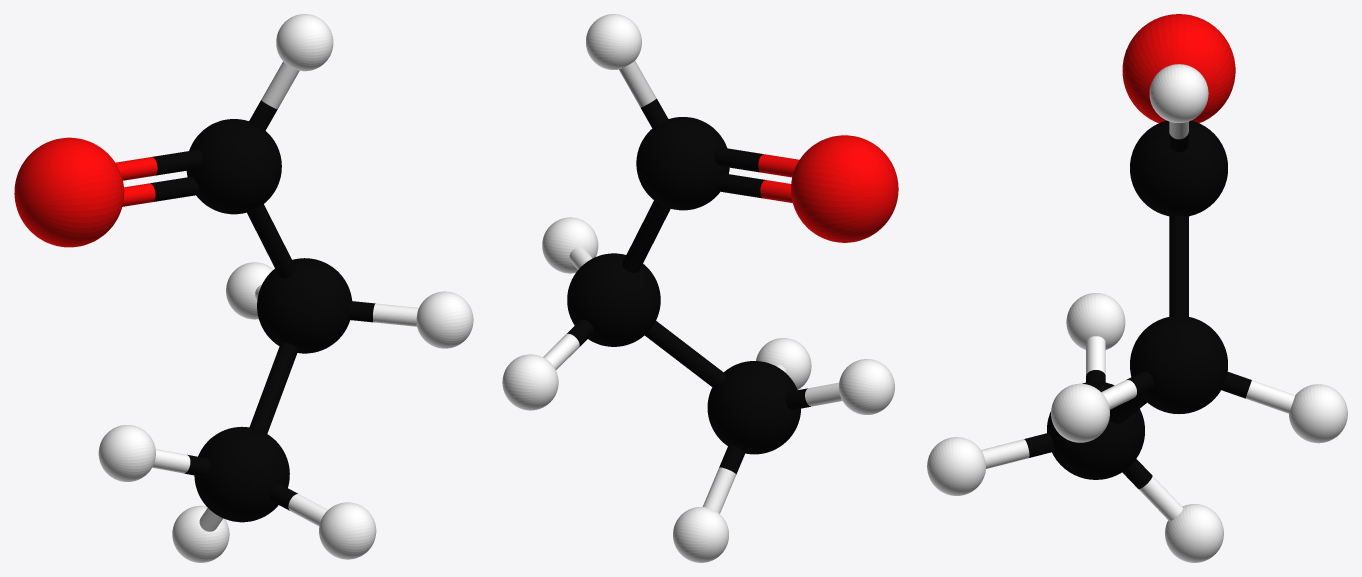
File: Propanal.glb
The picture shows the model from 3 angles, left to right: view 1: azimuth 30°, elevation 25°; view 2: azimuth 150°, elevation 25°; view 3: azimuth 270°, elevation 25°; orthographic projection. The views are drawn at different scales.
Parts seen in each view (by area): view 1: Esfera_UV.004, Esfera_UV.010, Esfera_UV.001, Esfera_UV.011, Esfera_UV.007, Esfera_UV.006, Esfera_UV.000_Esfera_UV.012, Esfera_UV.002_Esfera_UV.013, Esfera_UV.005_Esfera_UV.014, Cilindro.001_Cilindro.003, Esfera_UV.003, Cilindro.000 (+6 smaller); view 2: Esfera_UV.004, Esfera_UV.011, Esfera_UV.001, Esfera_UV.010, Esfera_UV.003, Esfera_UV.002_Esfera_UV.013, Esfera_UV.005_Esfera_UV.014, Esfera_UV.000_Esfera_UV.012, Esfera_UV.006, Cilindro.001_Cilindro.003, Esfera_UV.007, Cilindro.000 (+6 smaller); view 3: Esfera_UV.004, Esfera_UV.010, Esfera_UV.001, Esfera_UV.011, Esfera_UV.000_Esfera_UV.012, Esfera_UV.006, Esfera_UV.007, Esfera_UV.003, Esfera_UV.005_Esfera_UV.014, Esfera_UV.002_Esfera_UV.013, Cilindro.001, Cilindro.005 (+6 smaller).
Boxes of the visible parts, x1=… form: Esfera_UV.004: x1=14, y1=137, x2=124, y2=247; Esfera_UV.010: x1=257, y1=258, x2=352, y2=353; Esfera_UV.001: x1=186, y1=119, x2=281, y2=214; Esfera_UV.011: x1=194, y1=426, x2=289, y2=522; Esfera_UV.007: x1=319, y1=502, x2=376, y2=559; Esfera_UV.006: x1=416, y1=291, x2=473, y2=348; Esfera_UV.000_Esfera_UV.012: x1=276, y1=14, x2=333, y2=71; Esfera_UV.002_Esfera_UV.013: x1=98, y1=425, x2=155, y2=481; Esfera_UV.005_Esfera_UV.014: x1=172, y1=505, x2=229, y2=562; Cilindro.001_Cilindro.003: x1=249, y1=342, x2=298, y2=433; Esfera_UV.003: x1=226, y1=262, x2=273, y2=319; Cilindro.000: x1=115, y1=149, x2=202, y2=180; Esfera_UV.004: x1=791, y1=135, x2=898, y2=242; Esfera_UV.011: x1=707, y1=361, x2=800, y2=454; Esfera_UV.001: x1=636, y1=117, x2=729, y2=210; Esfera_UV.010: x1=567, y1=253, x2=660, y2=346; Esfera_UV.003: x1=502, y1=354, x2=558, y2=410; Esfera_UV.002_Esfera_UV.013: x1=839, y1=359, x2=894, y2=414; Esfera_UV.005_Esfera_UV.014: x1=673, y1=507, x2=728, y2=562; Esfera_UV.000_Esfera_UV.012: x1=586, y1=14, x2=641, y2=69; Esfera_UV.006: x1=542, y1=217, x2=598, y2=273; Cilindro.001_Cilindro.003: x1=645, y1=321, x2=726, y2=388; Esfera_UV.007: x1=756, y1=338, x2=811, y2=389; Cilindro.000: x1=714, y1=147, x2=799, y2=177; Esfera_UV.004: x1=1122, y1=14, x2=1235, y2=123; Esfera_UV.010: x1=1130, y1=316, x2=1227, y2=413; Esfera_UV.001: x1=1130, y1=120, x2=1227, y2=216; Esfera_UV.011: x1=1047, y1=381, x2=1144, y2=479; Esfera_UV.000_Esfera_UV.012: x1=1149, y1=64, x2=1208, y2=122; Esfera_UV.006: x1=1051, y1=383, x2=1109, y2=442; Esfera_UV.007: x1=927, y1=437, x2=985, y2=495; Esfera_UV.003: x1=1289, y1=384, x2=1347, y2=443; Esfera_UV.005_Esfera_UV.014: x1=1165, y1=504, x2=1223, y2=562; Esfera_UV.002_Esfera_UV.013: x1=1066, y1=293, x2=1125, y2=349; Cilindro.001: x1=1169, y1=216, x2=1188, y2=316; Cilindro.005: x1=1221, y1=372, x2=1295, y2=413.
Size of the model in its own units: 9.68 by 12.15 by 8.55.
